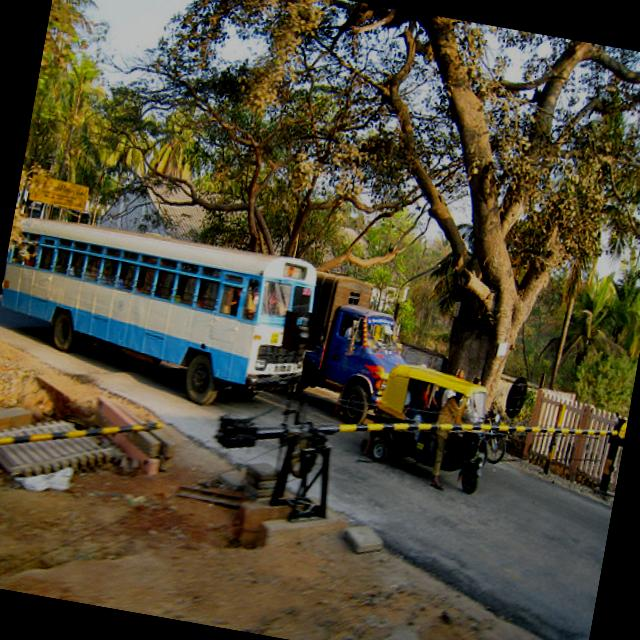Vehicle: (0, 208, 321, 422), (290, 271, 420, 432), (476, 406, 512, 465)
